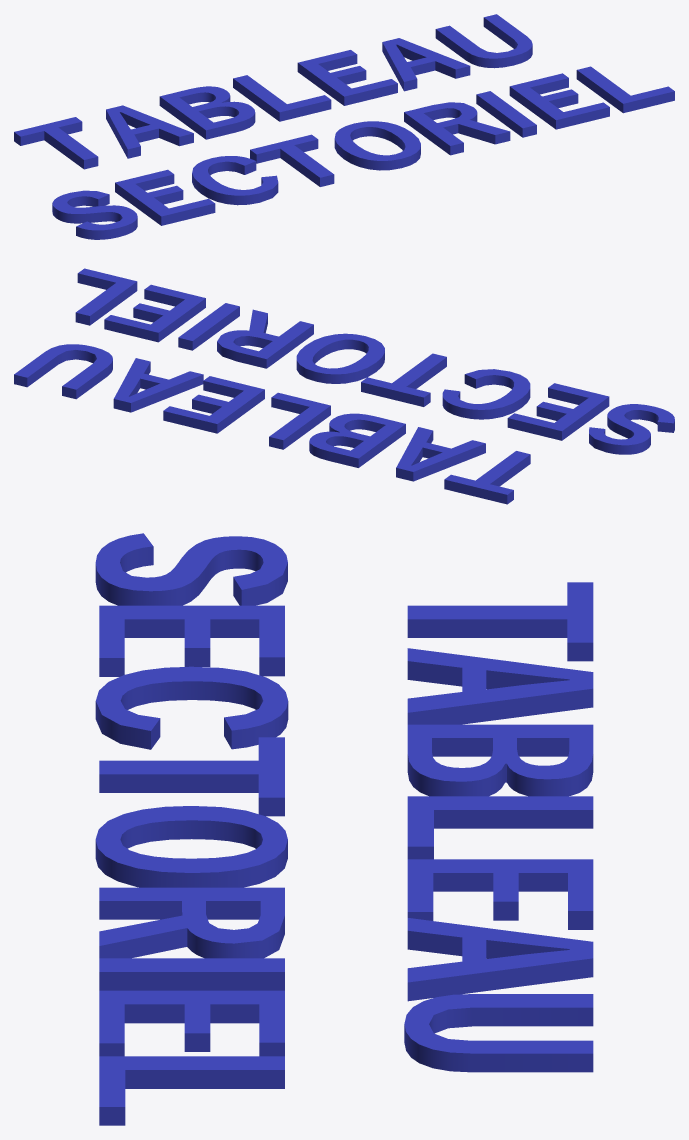
Rendered from tableausectoriel.fbx.
3 views of the same model, one above another, from view 1: azimuth 30°, elevation 25°; view 2: azimuth 150°, elevation 25°; view 3: azimuth 270°, elevation 25° (orthographic). The views are drawn at different scales.
Parts seen in each view (by area): view 1: node_id336 (×2); view 2: node_id336 (×2); view 3: node_id336 (×2).
Part boxes in pixels (x1,y1,x2,y2): node_id336 (×2): (14,14,674,239); node_id336 (×2): (14,268,674,504); node_id336 (×2): (95,533,593,1125).
Bounding box in the file's own units: 1.23 × 0.0188 × 0.4497.
